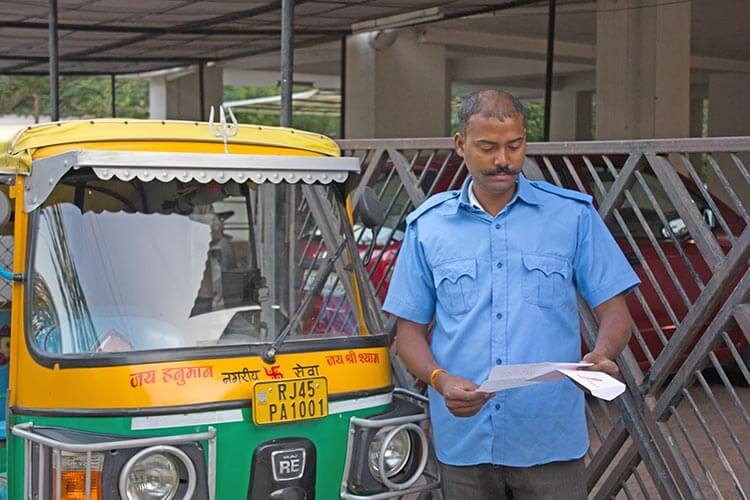doublelinenumberplate: (250, 375, 331, 425)
